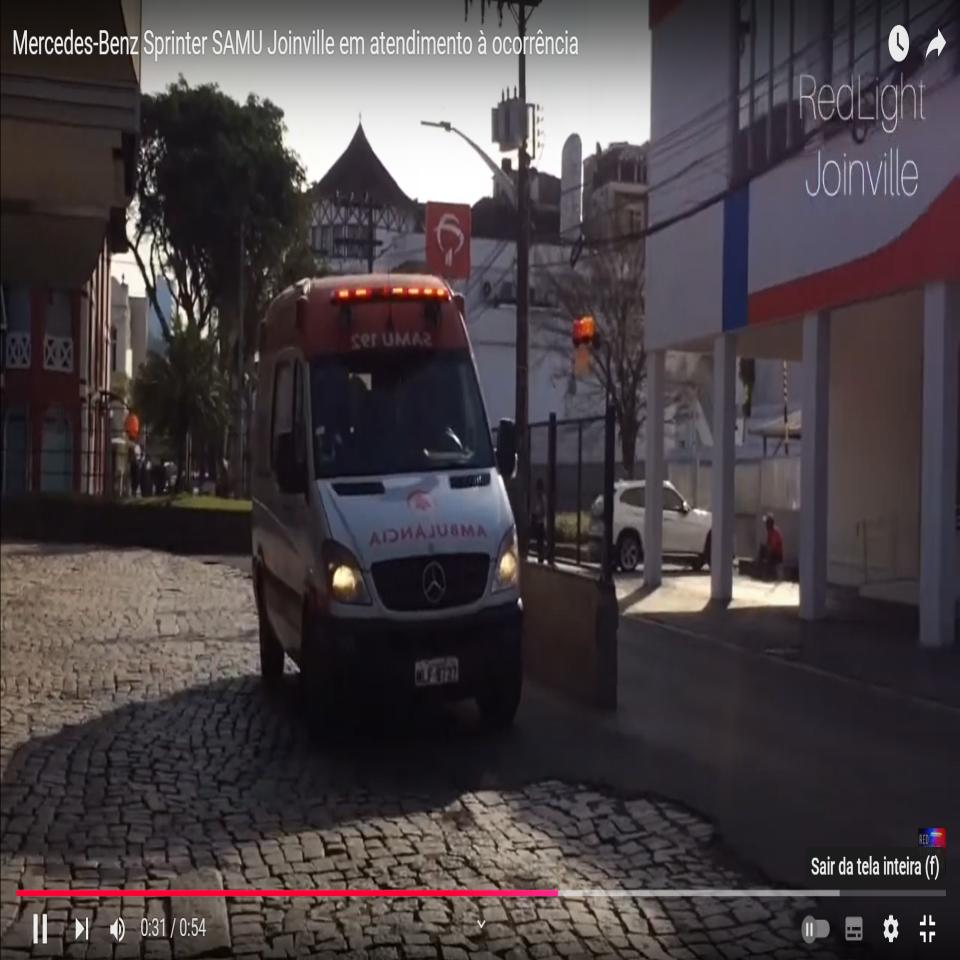bombeiro: (247, 268, 527, 752)
